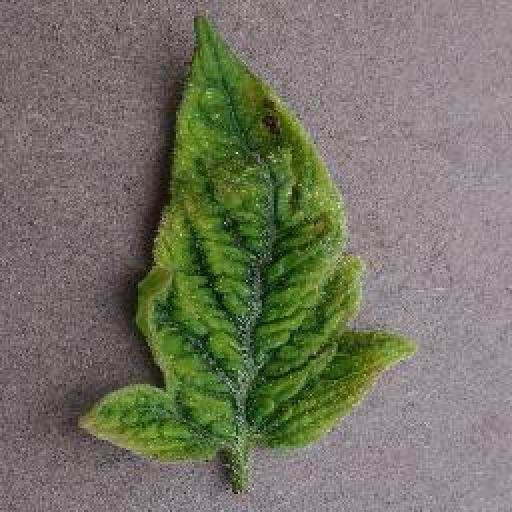Yellow Leaf Curl Virus: (74, 7, 412, 468)
